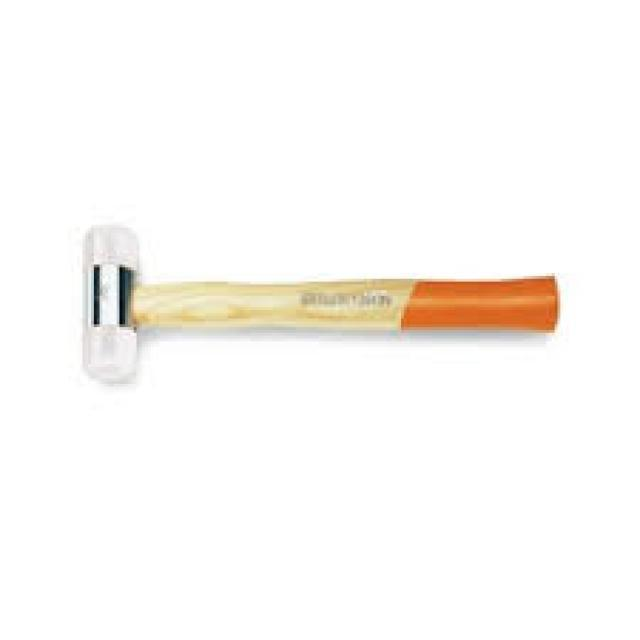Palu: (75, 213, 570, 386)
